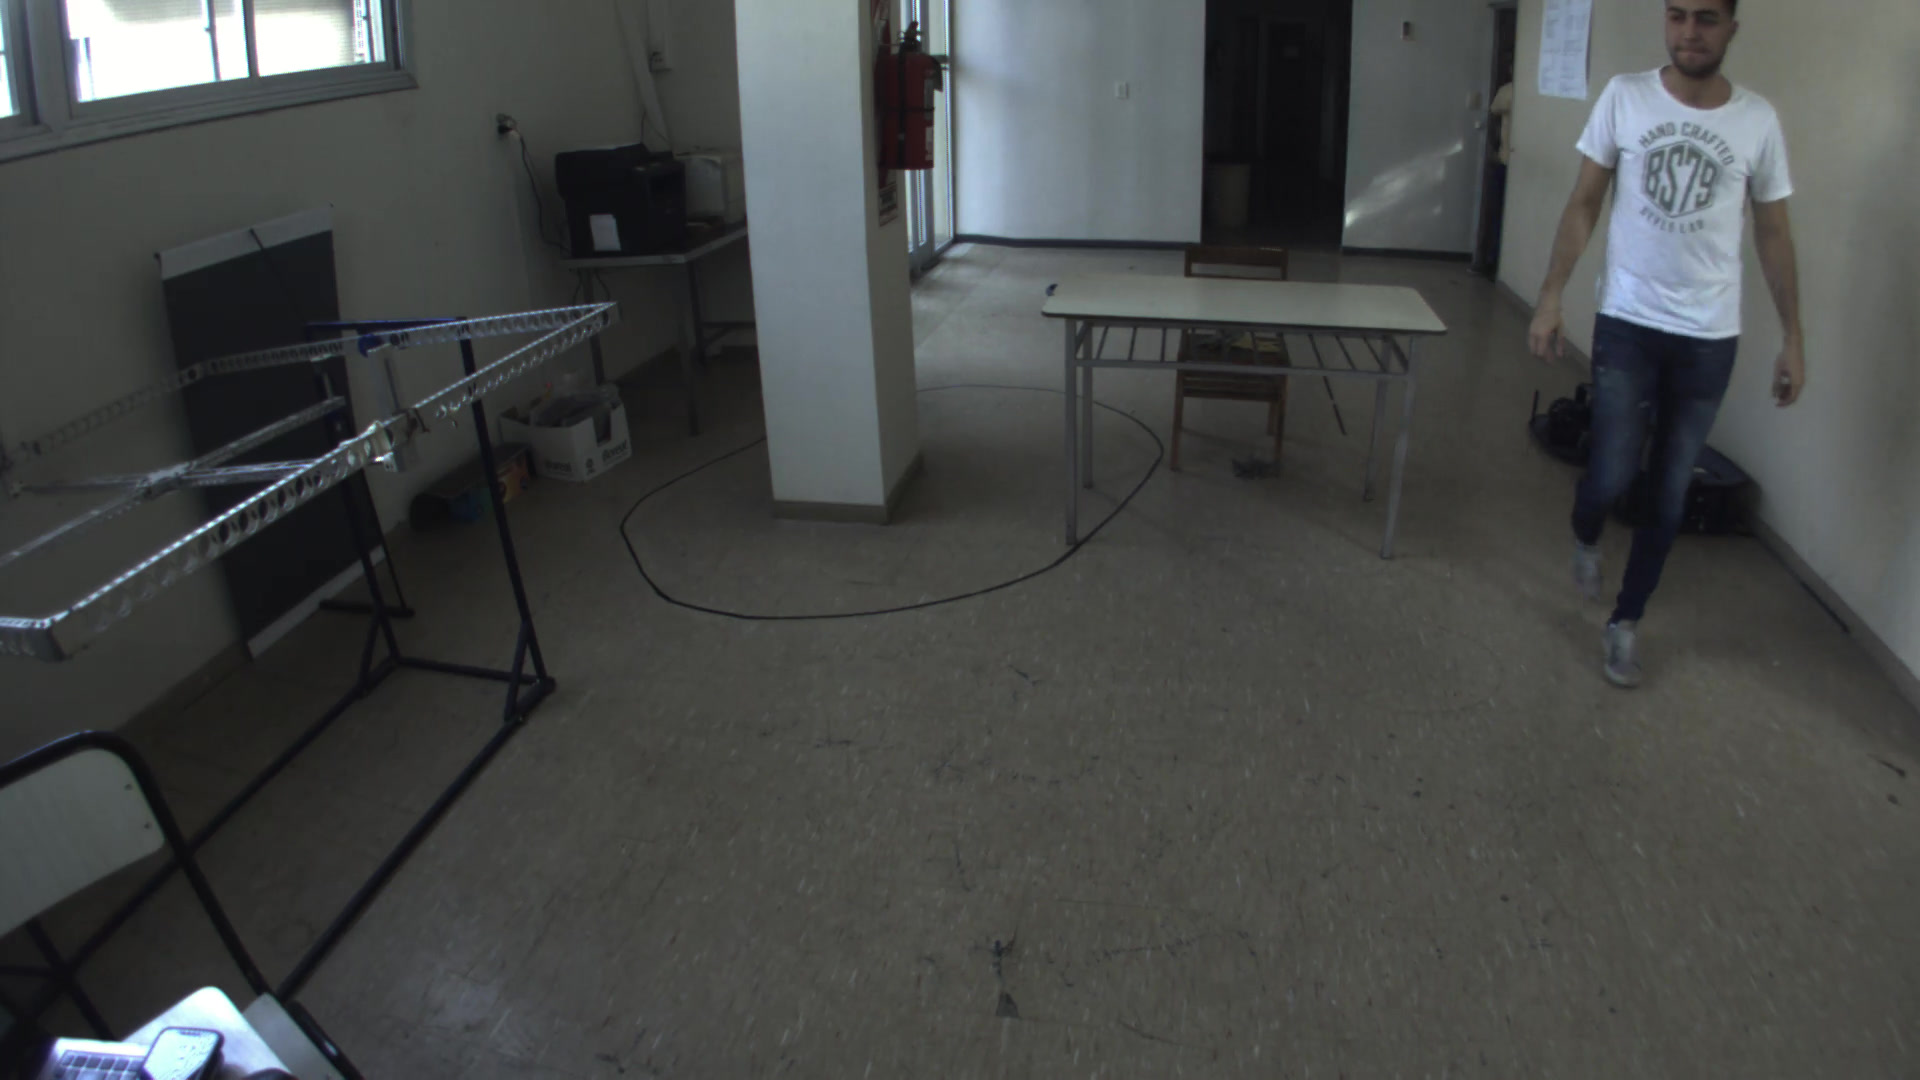hand: (1524, 303, 1586, 371), (1762, 338, 1815, 414)
